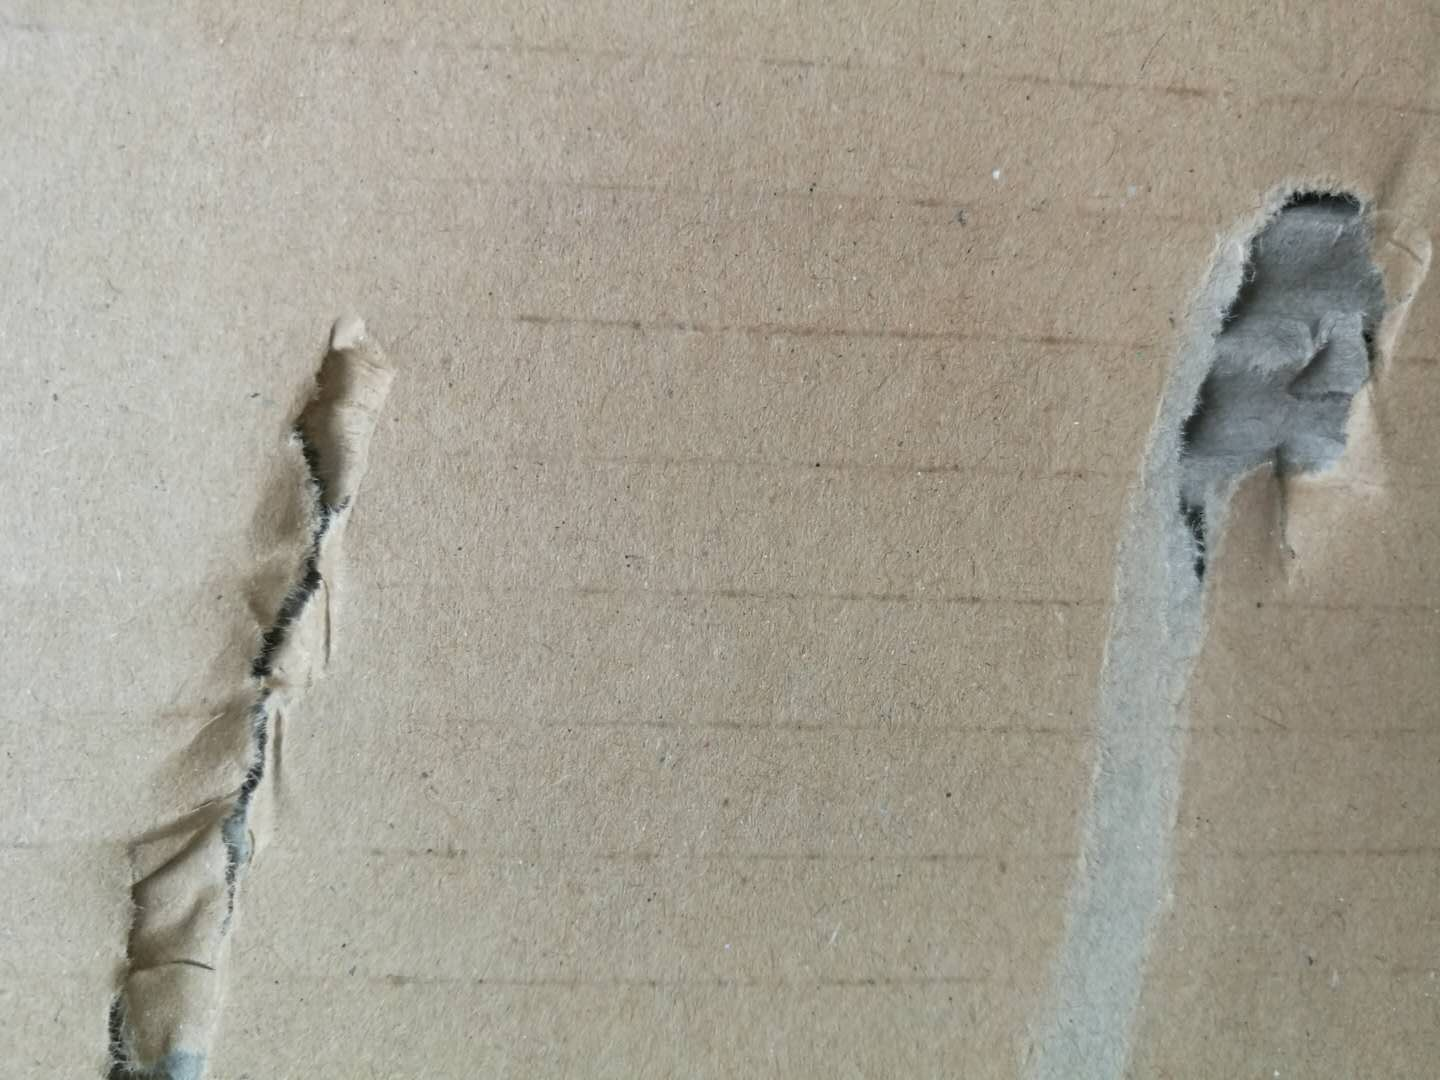defect: (982, 130, 1440, 1080), (42, 294, 447, 1080)
